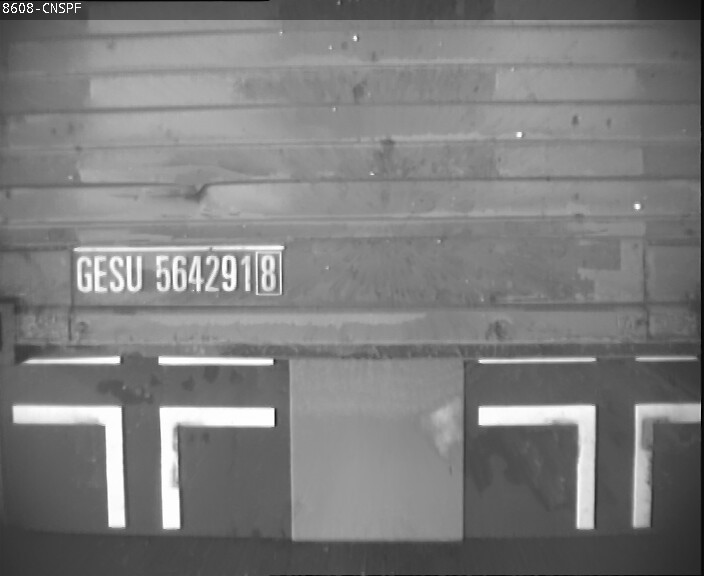groundmarker_1: (10, 401, 273, 528), (478, 400, 704, 530)
